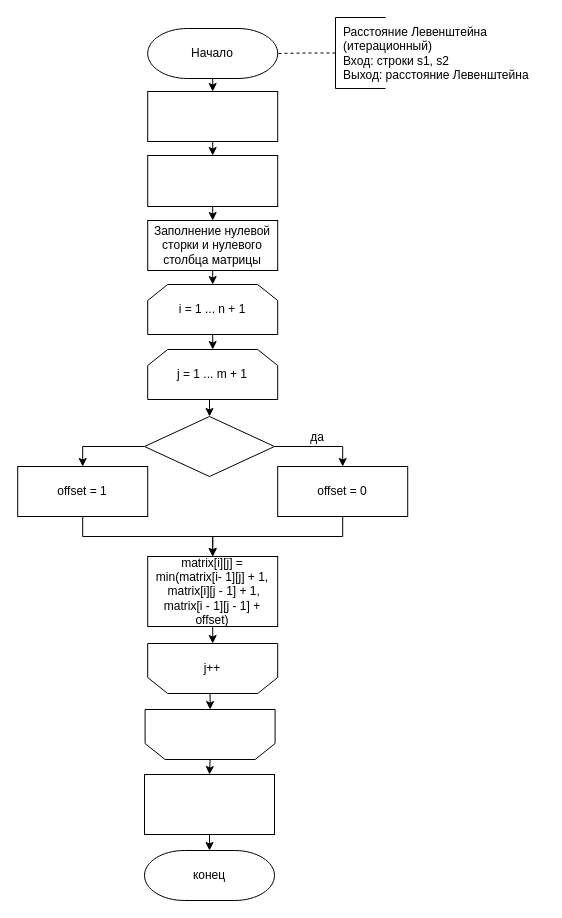
This 562x918 diagram has some shape labels left out. Here are the shapes that lost their labels. From the top down, the box of each, then its label:
(147, 90, 278, 142): n = длина s1 m = длина s2
(147, 154, 278, 206): Создание матрицы
(144, 416, 274, 476): s1[i - 1] == s2[j - 1]
(144, 708, 275, 760): i++
(144, 774, 274, 834): вернуть matrix[n][m]
